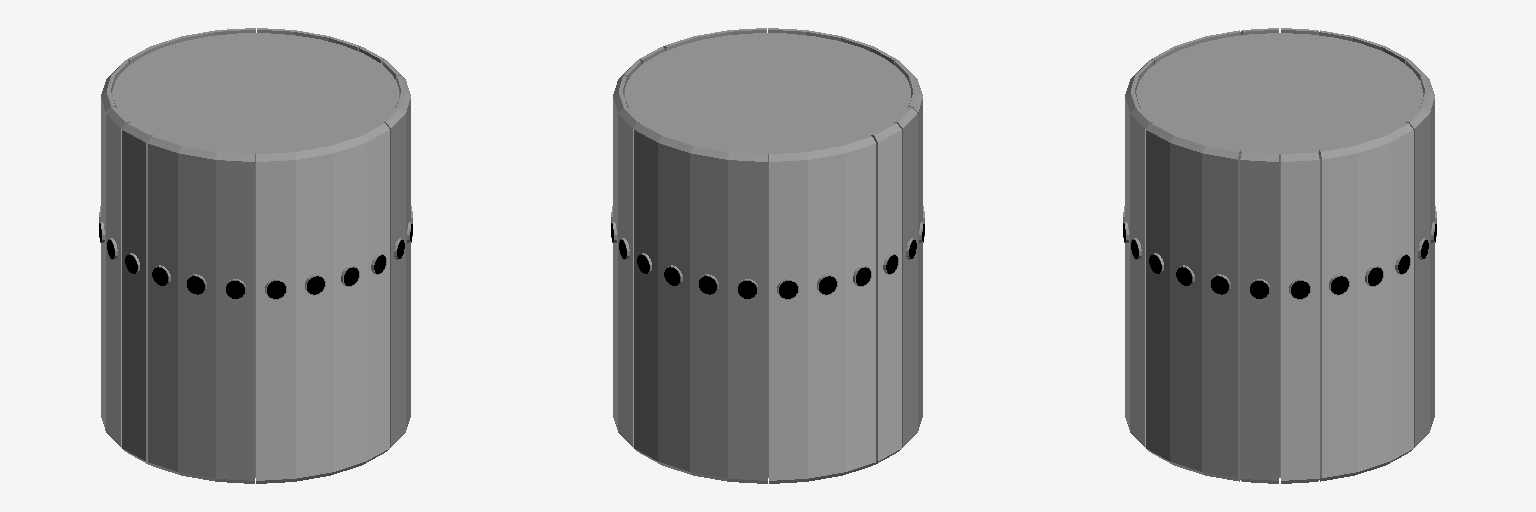
Rendered from evasor2.obj.
The picture shows the model from 3 angles: view 1: azimuth 30°, elevation 25°; view 2: azimuth 150°, elevation 25°; view 3: azimuth 270°, elevation 25°; orthographic projection.
Visible parts, largest first — view 1: b21_top; view 2: b21_top; view 3: b21_top.
Part boxes in pixels (x1,y1,x2,y2): b21_top: (99, 28, 412, 483); b21_top: (611, 28, 924, 483); b21_top: (1123, 28, 1436, 483).
Size of the model in its own units: 0.4922 by 0.57 by 0.4922.